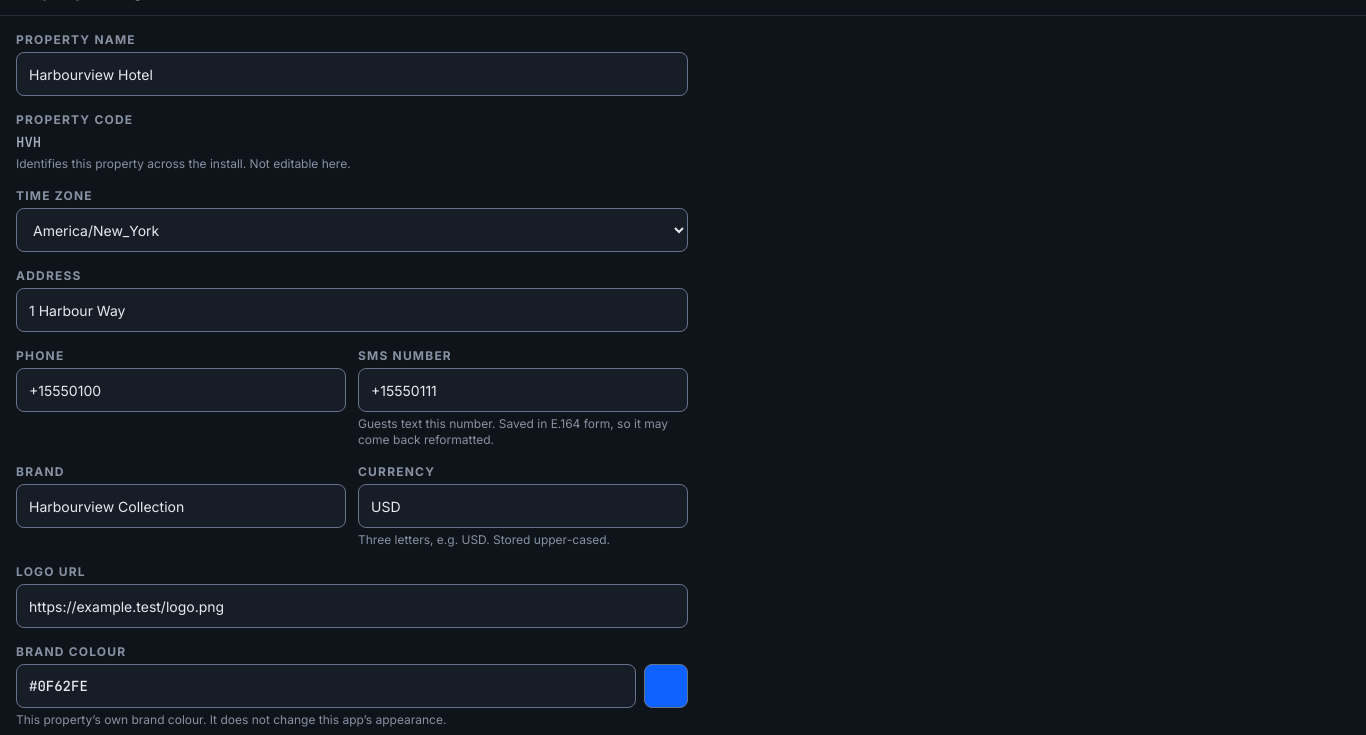
Test: PropertySettingsAdmin › shows the SMS number in the E.164 form the server routes on, not as typed
The image size is (1366, 735).
Replace the text in the field labelled "SMS number" with "(555) 011-2222": (523, 390) [358,368,688,412]
(page scrolled)
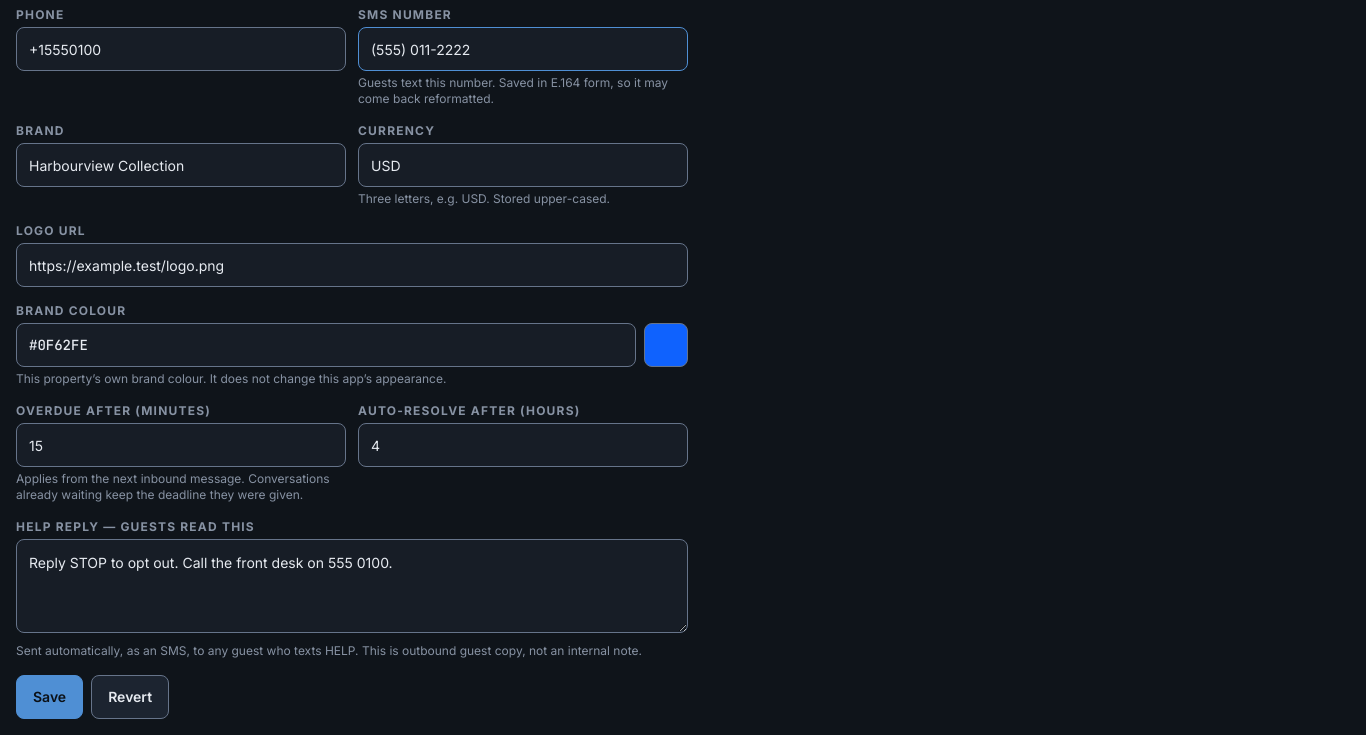
Click the button "Save": click(50, 697) [16,675,83,719]
(page scrolled)
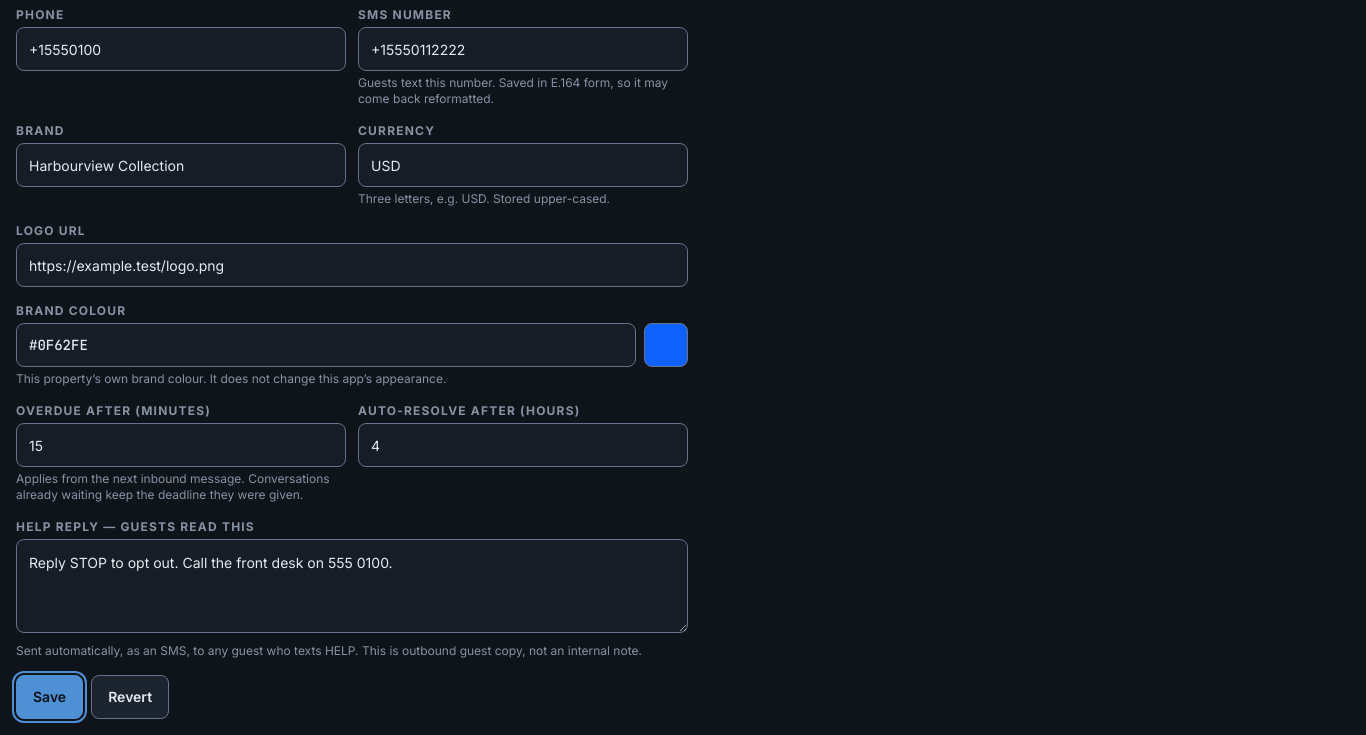
expect the field labelled "SMS number" holds "+15550112222": met, box [358,27,688,71]
